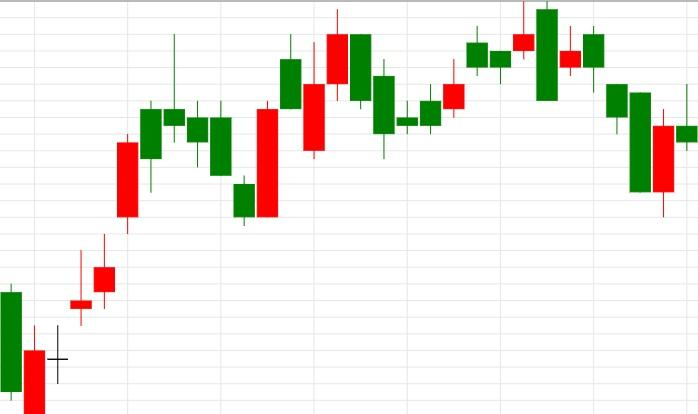bearish_engulfing_fall: (372, 0, 558, 160)
